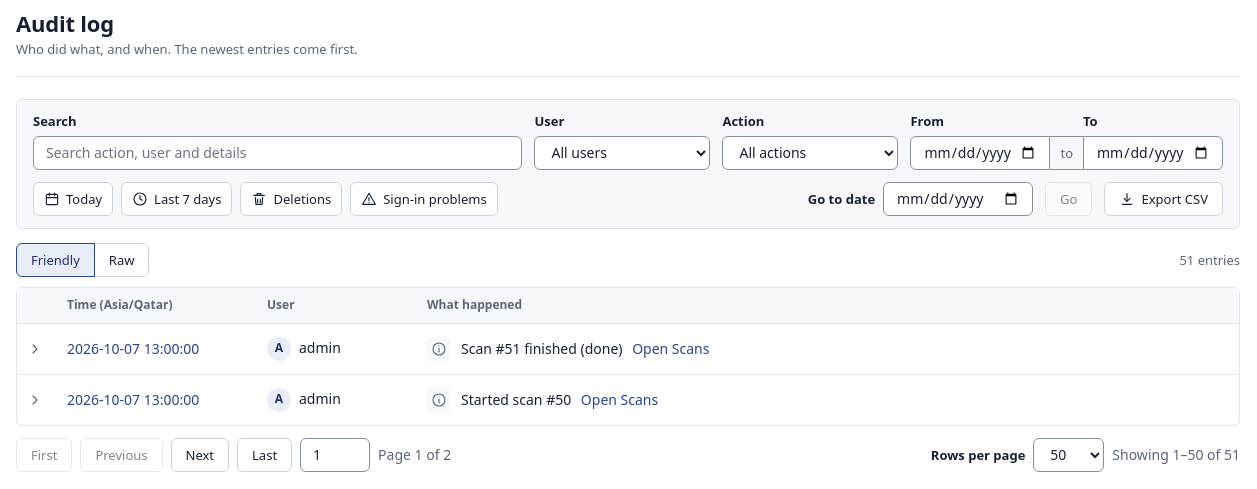
Test: AuditPage › lists entries newest first with who and what happened, and pages
Expected: the text "Scan #51 finished (done)" is shown, x1=461 y1=339 x2=622 y2=358
Expected: the text "Started scan #50" is shown, x1=461 y1=390 x2=571 y2=409
Click the button "Next" at (200, 455), box x1=170 y1=438 x2=229 y2=472
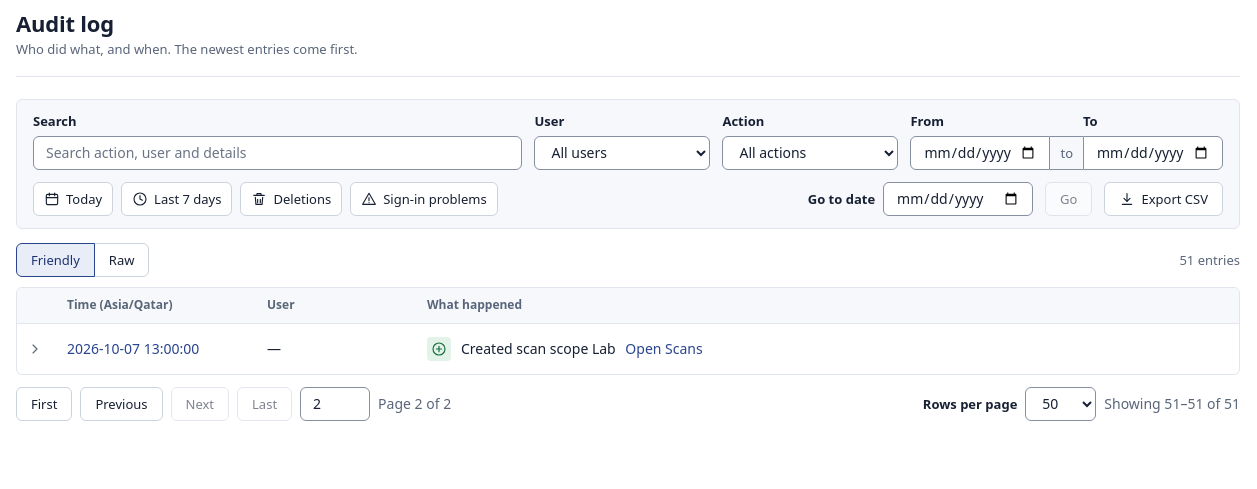
Result: the text "Created scan scope Lab" is shown at x1=461 y1=339 x2=616 y2=358
Result: the text "—" is shown at x1=253 y1=324 x2=413 y2=374
Result: the button "Next" is disabled at x1=170 y1=387 x2=229 y2=421
Click the button "First" at (44, 404), box x1=16 y1=387 x2=72 y2=421
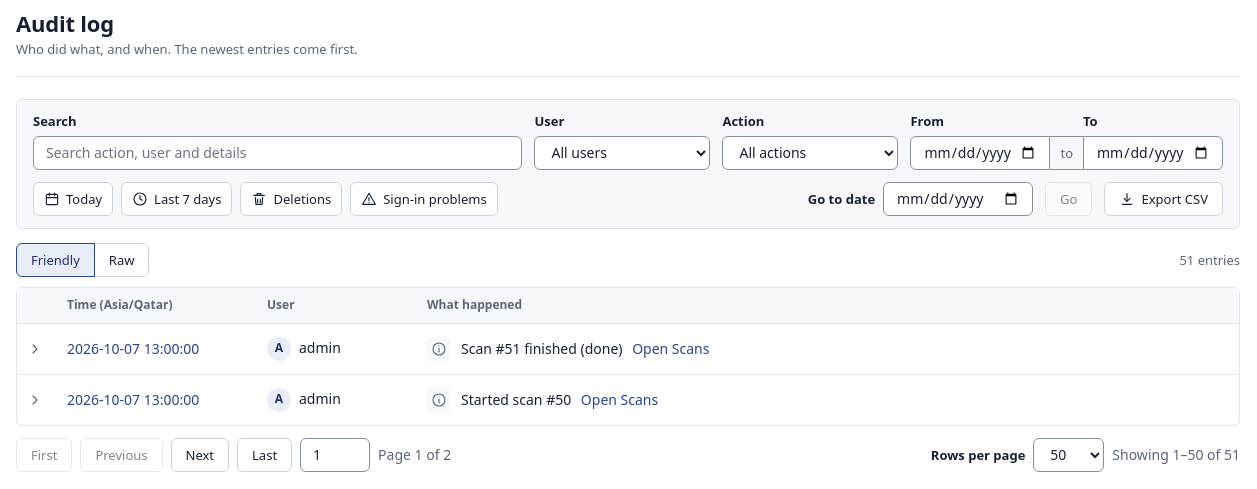
Result: the text "Scan #51 finished (done)" is shown at x1=461 y1=339 x2=622 y2=358
